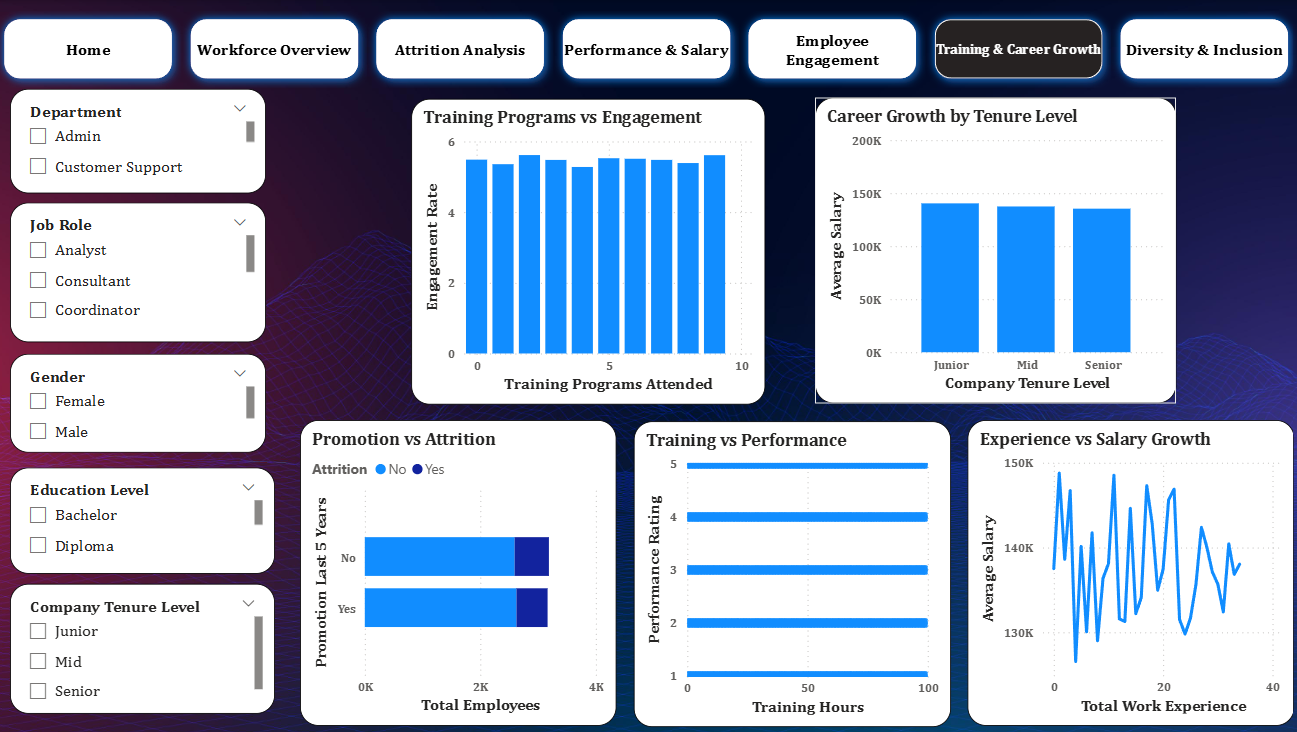

What the dashboard file says about the page in this screenshot:
{"tool":"powerbi","page":{"name":"Training & Career Growth","canvas":[1280,720],"ordinal":5},"visuals":[{"type":"image","box":[0,0,1280.3,720.2],"z":0},{"type":"pageNavigator","box":[0,10,1280.1,76.7],"z":1000},{"type":"scatterChart","title":"Training vs Performance","fields":{"X":["HR_Data.Training_Hours"],"Y":["HR_Data.Performance_Rating"]},"box":[624.9,412.1,310.6,299.6],"z":2000},{"type":"columnChart","title":"Training Programs vs Engagement","fields":{"Category":["HR_Data.Training_Programs_Attended"],"Y":["HR_Data.Avg_Engagement"]},"box":[407.2,96.6,346.1,299.6],"z":3000},{"type":"barChart","title":"Promotion vs Attrition","fields":{"Category":["HR_Data.Promotion_Last_5_Years"],"Y":["CountNonNull(HR_Data.Employee_ID)"],"Series":["HR_Data.Attrition"]},"box":[298.4,410.9,309.4,299.6],"z":4000},{"type":"clusteredColumnChart","title":"Career Growth by Tenure Level","fields":{"Category":["HR_Data.Company_Tenure_Level"],"Y":["HR_Data.Avg Salary"]},"box":[802.2,95.4,353.4,299.6],"z":5000},{"type":"lineChart","title":"Experience vs Salary Growth","fields":{"Category":["HR_Data.Total_Work_Experience"],"Y":["HR_Data.Avg Salary"]},"box":[951.4,410.9,320.4,299.6],"z":6000},{"type":"slicer","fields":{"Values":["HR_Data.Department"]},"box":[14.7,86.8,250.7,102.7],"z":7000},{"type":"slicer","fields":{"Values":["HR_Data.Job_Role"]},"box":[14.7,198.1,250.7,137],"z":8000},{"type":"slicer","fields":{"Values":["HR_Data.Gender"]},"box":[14.7,346.1,250.7,96.6],"z":9000},{"type":"slicer","fields":{"Values":["HR_Data.Education_Level"]},"box":[14.7,457.3,259.2,103.9],"z":10000},{"type":"slicer","fields":{"Values":["HR_Data.Company_Tenure_Level"]},"box":[14.7,571.1,259.2,127.2],"z":11000}]}

Visuals, with their boxes in screenshot pixels (x1, y1, x2, y2), scaled from the page's 1280x720 canvas onto the 1297x732 screenshot:
image: (0,0,1296,731)
pageNavigator: (0,10,1296,88)
"Training vs Performance" scatterChart: (633,419,948,724)
"Training Programs vs Engagement" columnChart: (413,98,763,403)
"Promotion vs Attrition" barChart: (302,418,616,722)
"Career Growth by Tenure Level" clusteredColumnChart: (813,97,1171,402)
"Experience vs Salary Growth" lineChart: (964,418,1289,722)
slicer - HR_Data.Department: (15,88,269,193)
slicer - HR_Data.Job_Role: (15,201,269,341)
slicer - HR_Data.Gender: (15,352,269,450)
slicer - HR_Data.Education_Level: (15,465,278,571)
slicer - HR_Data.Company_Tenure_Level: (15,581,278,710)
